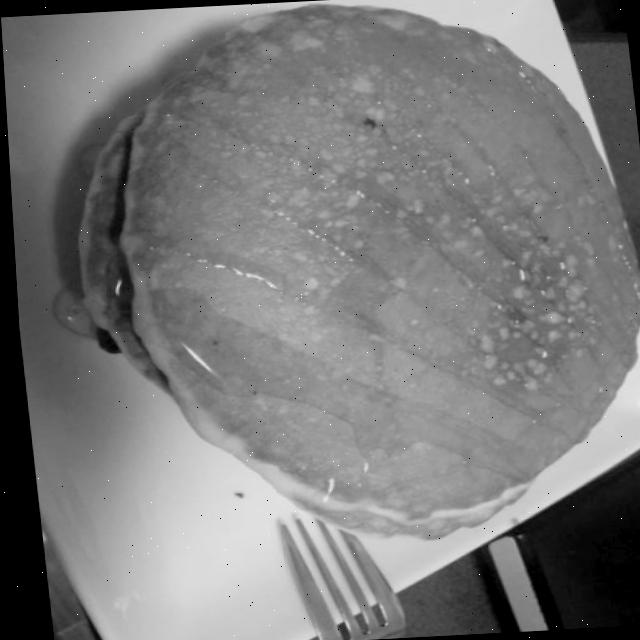面条主食: (0, 7, 640, 548)
